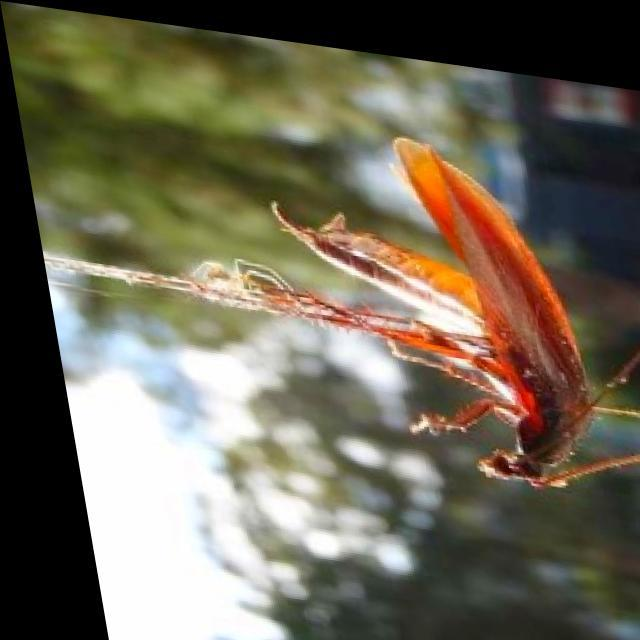cockroach: (231, 108, 640, 518)
